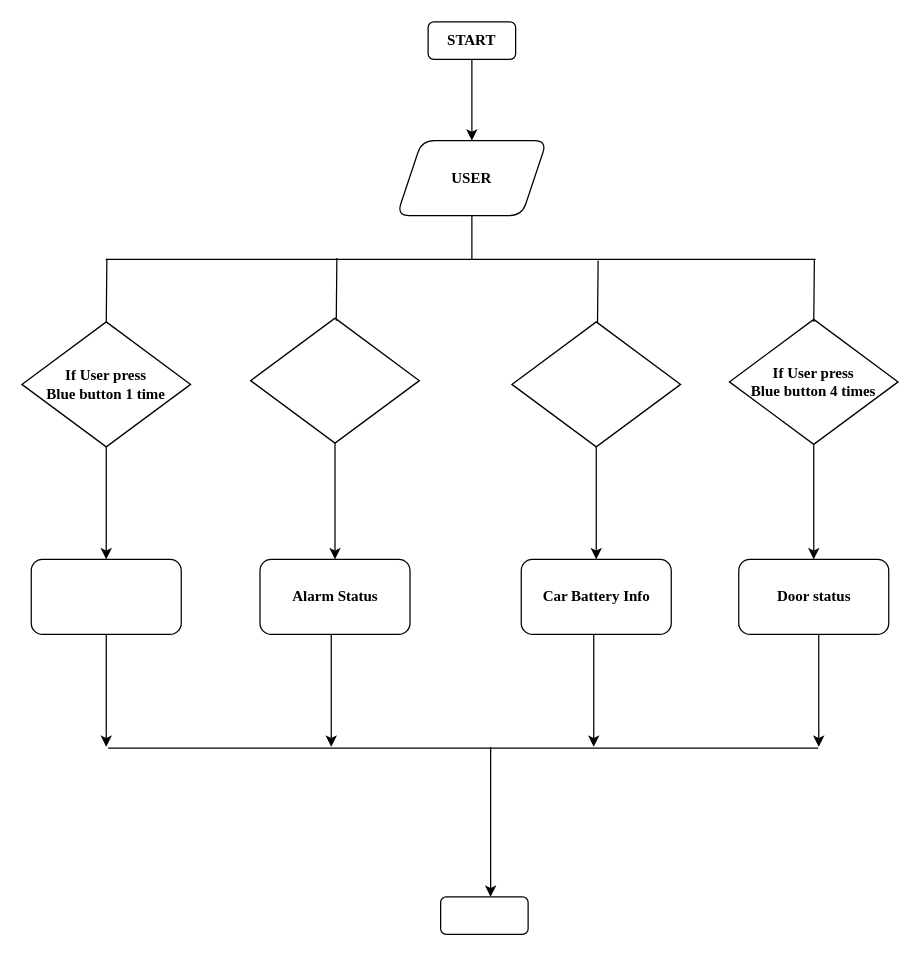
The diagram is 920 pixels wide and 956 high, and some of its shapes have lost their labels. Each missing label, with the centre of its shape:
"END" goes at (x=483, y=915).
"If User press Blue button 2 times" goes at (x=334, y=380).
"If User press Blue button 3 times" goes at (x=596, y=384).
"Window Status" goes at (x=105, y=596).
